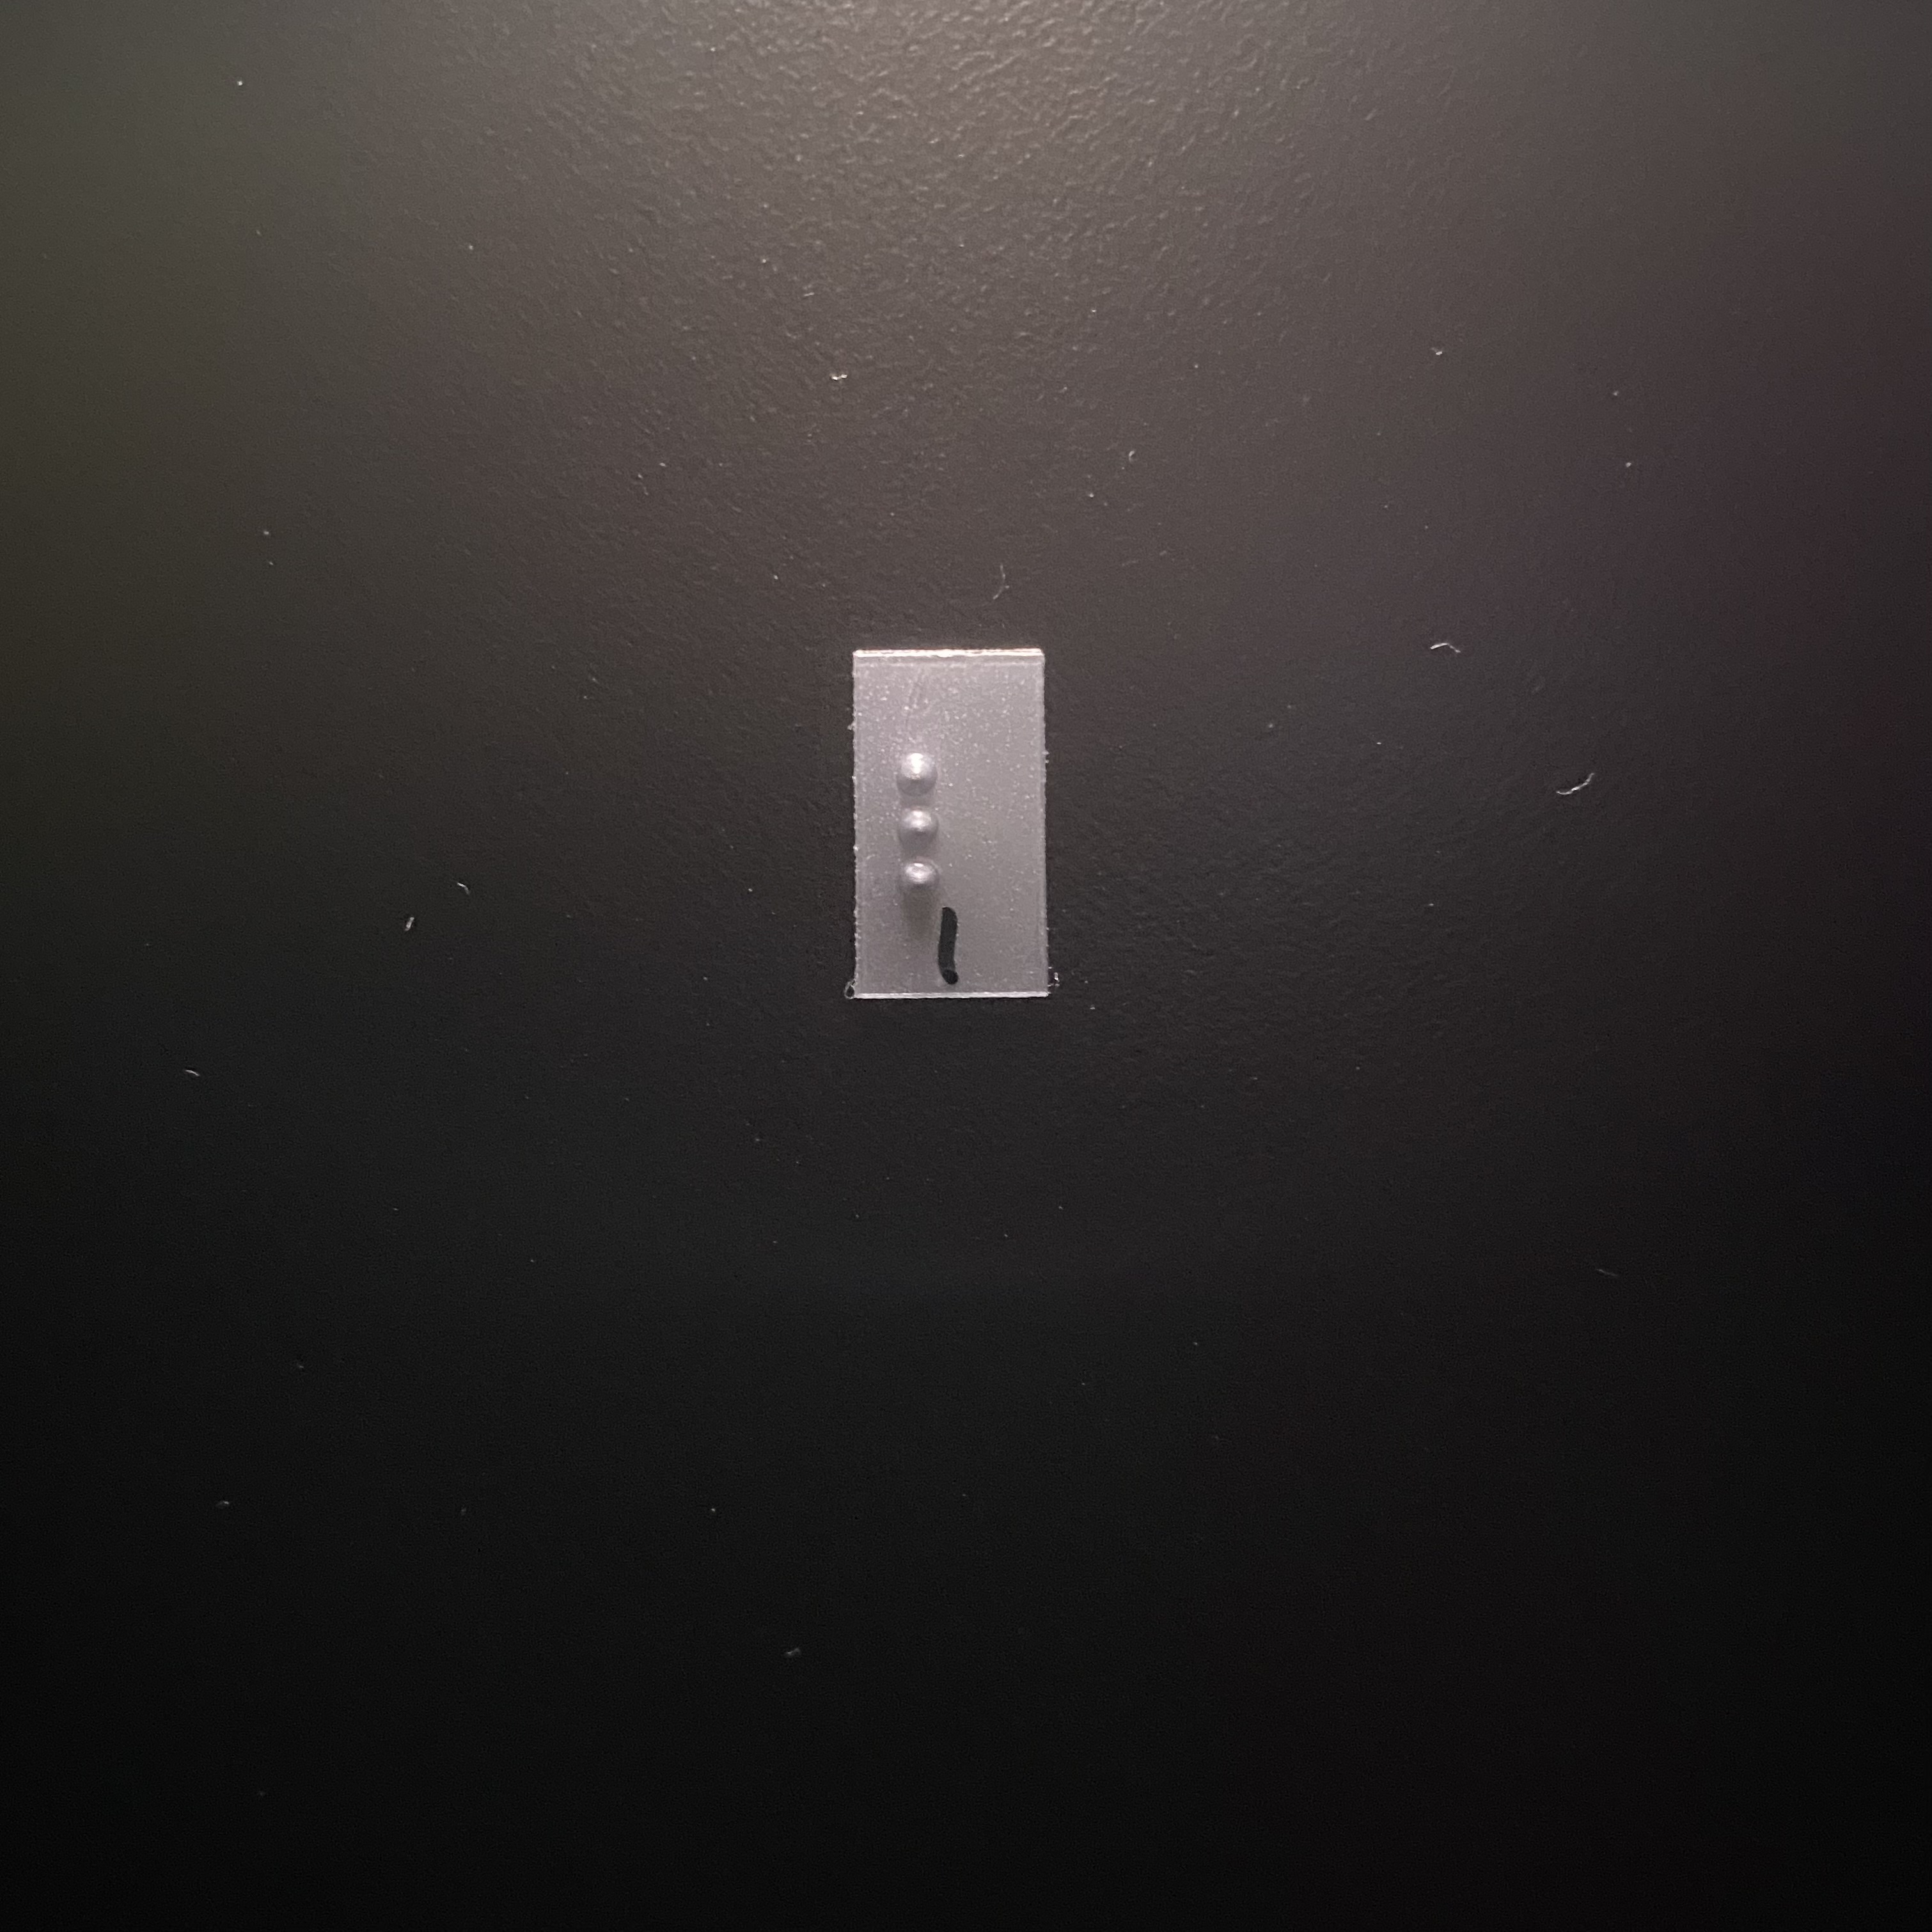l: (893, 744, 1014, 934)
